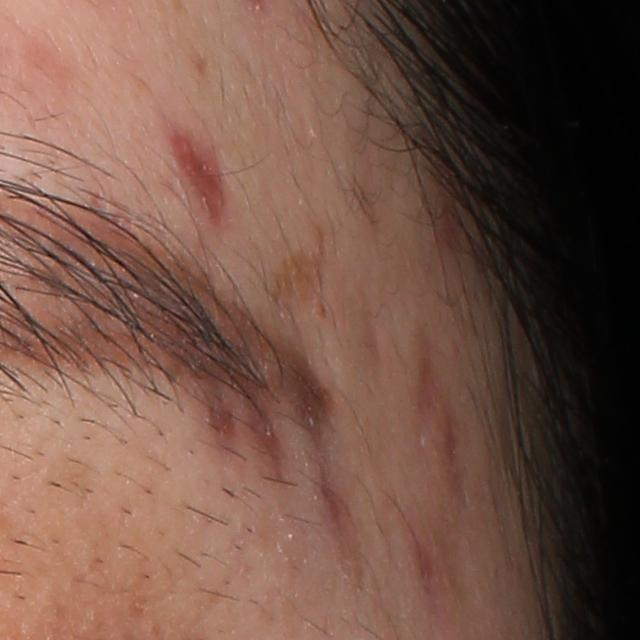atrophic_scar: (298, 380, 347, 524), (245, 382, 294, 484), (345, 301, 392, 384), (203, 369, 240, 446)
